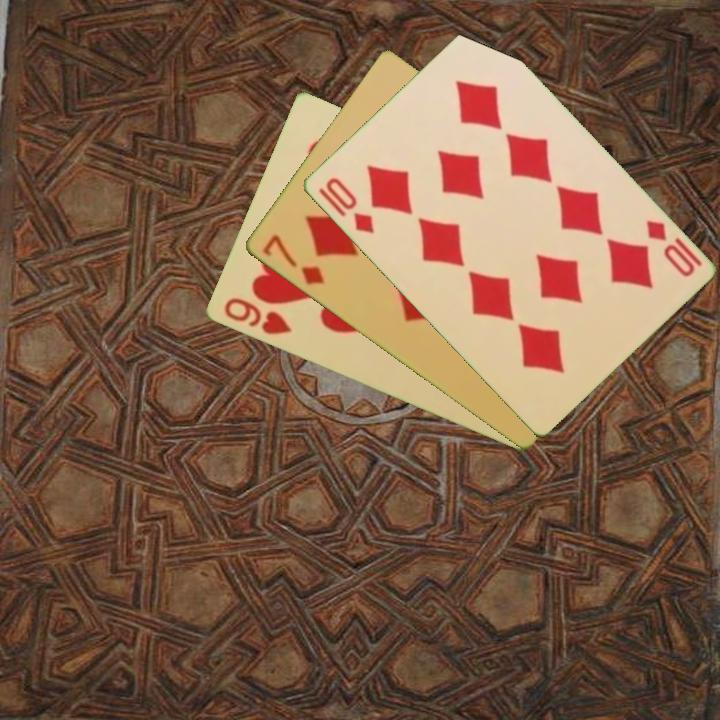10d: (321, 173, 377, 237), (642, 216, 697, 280)
7d: (258, 231, 327, 288)
9h: (219, 294, 294, 338)
